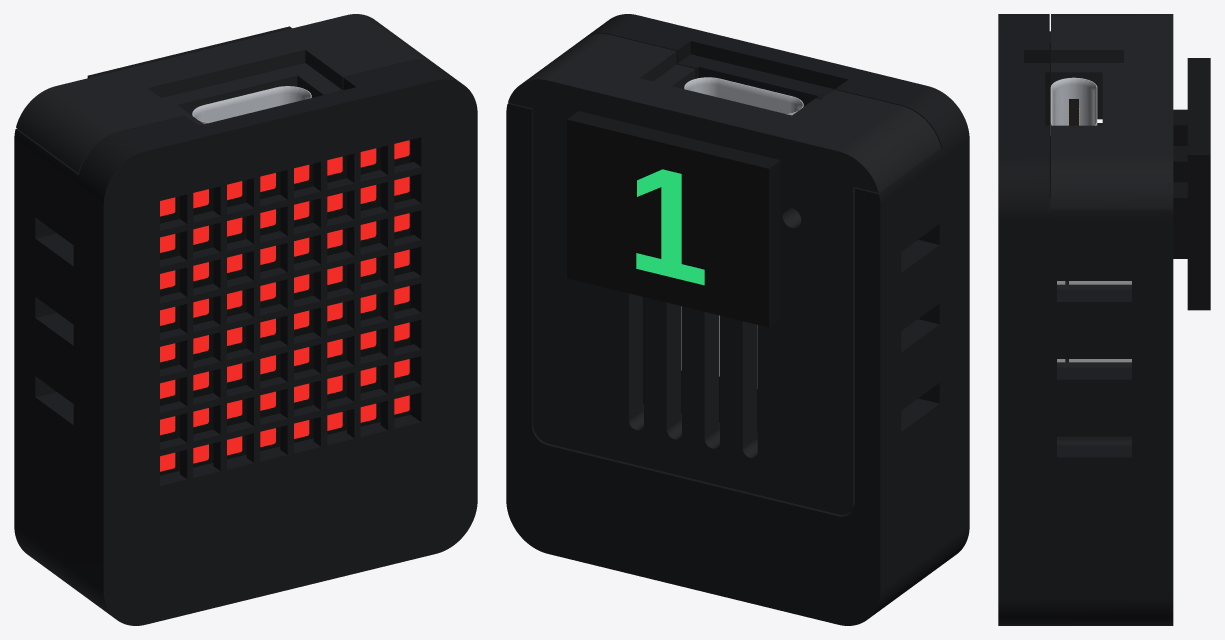
The model's file is cue-mini.glb.
3 views of the same model, side by side, from view 1: azimuth 30°, elevation 25°; view 2: azimuth 150°, elevation 25°; view 3: azimuth 270°, elevation 25° (orthographic).
Visible parts, largest first — view 1: body, grid, plate, leds, board, usbc-shell, tag; view 2: body, plate, tag, tag-number, usbc-shell; view 3: body, plate, tag, usbc-shell, heatsink, board.
Boxes of the visible parts, left/top/right/bottom form: body: left=14, top=60, right=477, bottom=625; grid: left=155, top=131, right=425, bottom=491; plate: left=16, top=14, right=435, bottom=172; leds: left=160, top=140, right=409, bottom=471; board: left=160, top=140, right=410, bottom=475; usbc-shell: left=192, top=86, right=311, bottom=124; tag: left=87, top=26, right=291, bottom=77; body: left=506, top=14, right=969, bottom=625; plate: left=508, top=33, right=940, bottom=514; tag: left=567, top=111, right=780, bottom=327; tag-number: left=636, top=169, right=704, bottom=285; usbc-shell: left=684, top=77, right=803, bottom=115; body: left=998, top=14, right=1173, bottom=625; plate: left=1049, top=14, right=1173, bottom=445; tag: left=1173, top=58, right=1210, bottom=310; usbc-shell: left=1050, top=77, right=1097, bottom=135; heatsink: left=1057, top=281, right=1131, bottom=362; board: left=1045, top=47, right=1050, bottom=197.
Size of the model in its own units: 0.0296 by 0.0358 by 0.0149.
